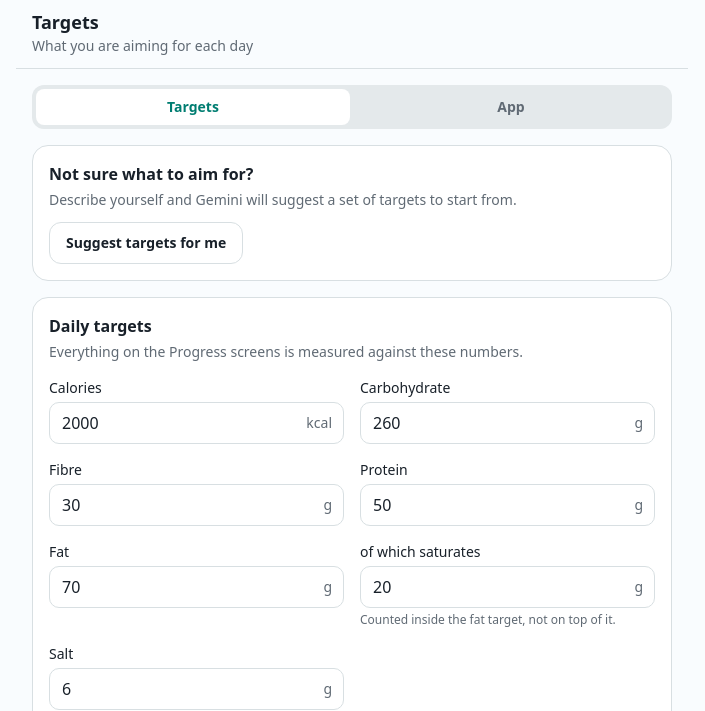
Test: suggesting targets › fills the boxes in from a description, without saving anything
This screenshot has width=705, height=711.
Click the button "Suggest targets for me". click: [146, 243]
box: [49, 222, 243, 264]
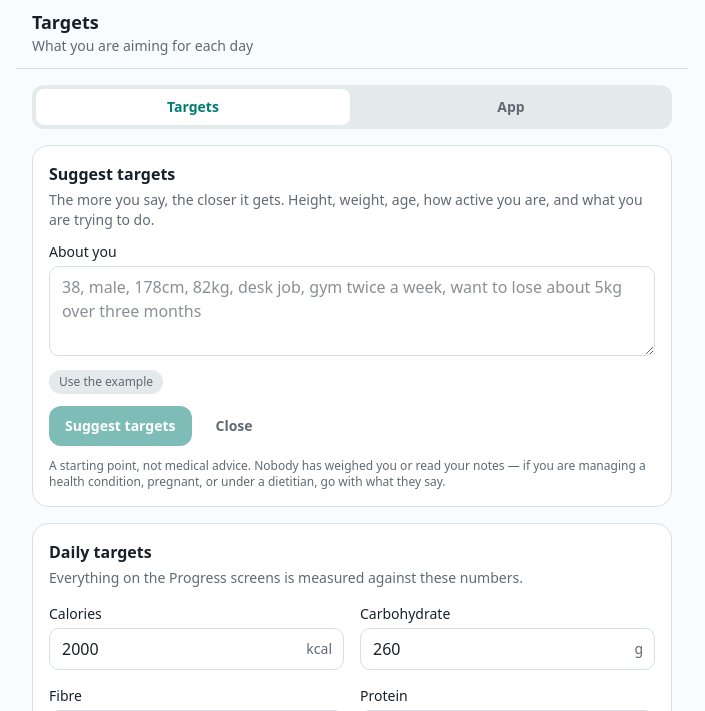
Type "38, 178cm, 82kg, desk job" into the text box labelled "About you". click: [352, 311]
box: [49, 266, 655, 356]
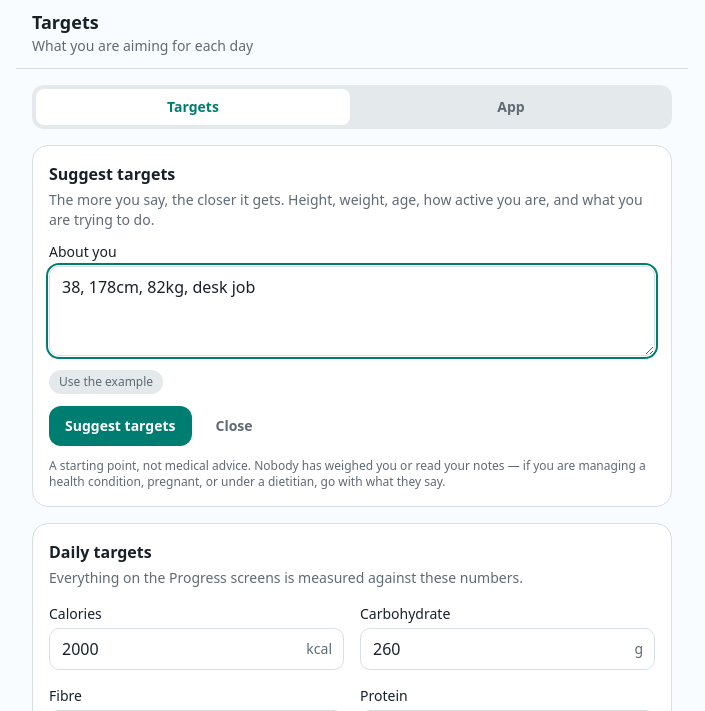
Click the button "Suggest targets". click: [120, 426]
box: [49, 406, 192, 446]
(page scrolled)
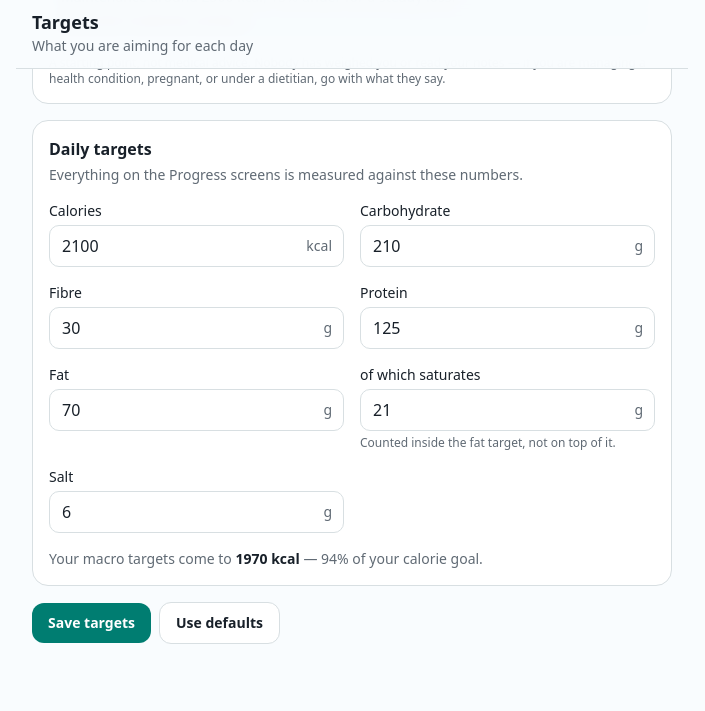
Expected: the button "Save targets" is shown, [32, 603, 151, 643]
Expected: the number field labelled "Calories" holds "2100", [49, 225, 344, 267]
Expected: the number field labelled "Protein" holds "125", [360, 307, 655, 349]
